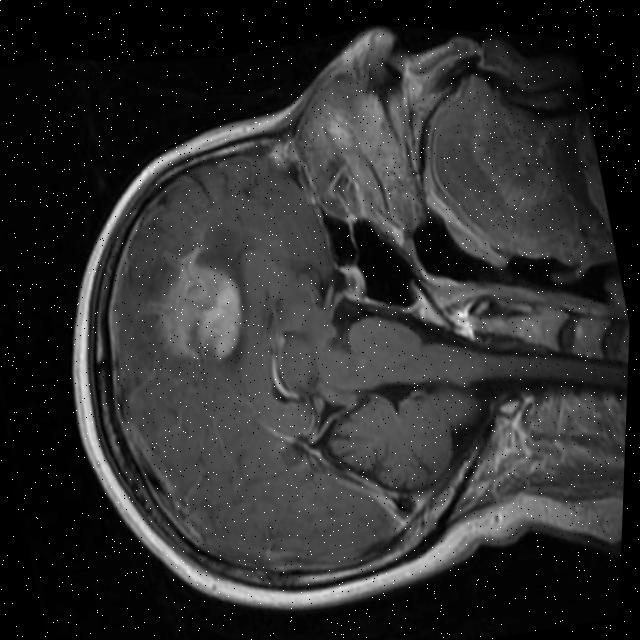Meningioma: (137, 233, 257, 376), (337, 259, 370, 301)
